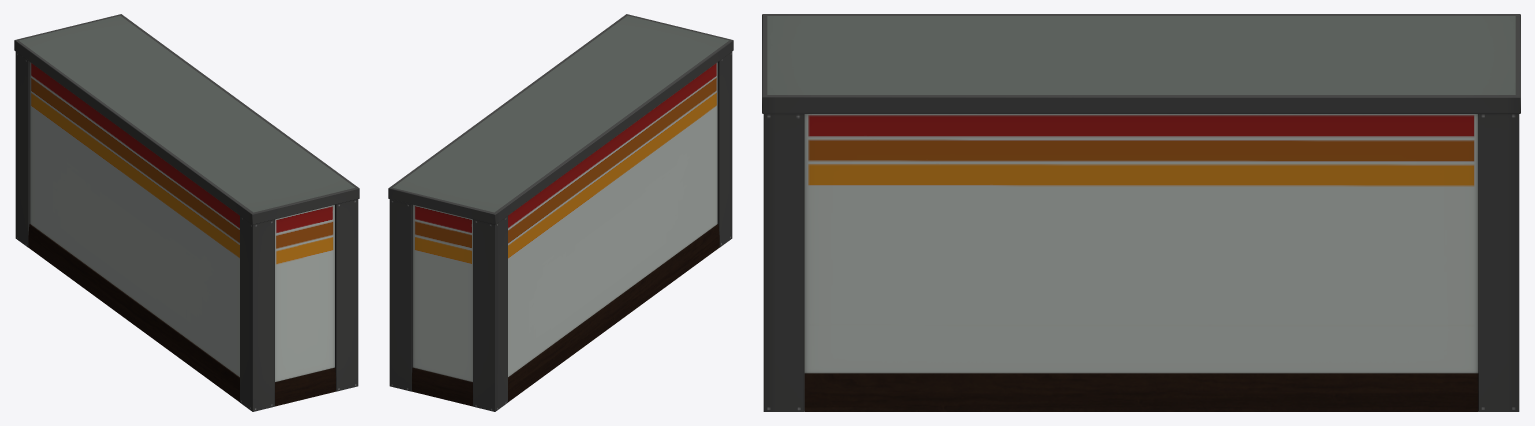
The model's file is video_store_counter.obj.
The picture shows the model from 3 angles, left to right: view 1: azimuth 30°, elevation 25°; view 2: azimuth 150°, elevation 25°; view 3: azimuth 270°, elevation 25°; orthographic projection. The views are drawn at different scales.
Parts seen in each view (by area): view 1: Mesh4_Group2_Group1_Model; view 2: Mesh4_Group2_Group1_Model; view 3: Mesh4_Group2_Group1_Model.
Boxes of the visible parts, box(x1,y1,x2,y2) form: Mesh4_Group2_Group1_Model: box(14, 14, 359, 411); Mesh4_Group2_Group1_Model: box(388, 14, 733, 411); Mesh4_Group2_Group1_Model: box(762, 14, 1520, 411).
Size of the model in its own units: 0.5806 by 1.02 by 2.23.
1 material, 1 textured.
